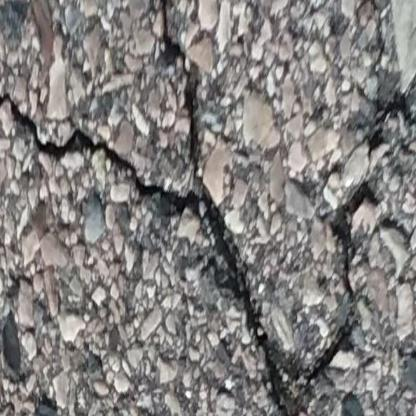Cracks: (0, 0, 386, 416), (360, 0, 416, 164)
